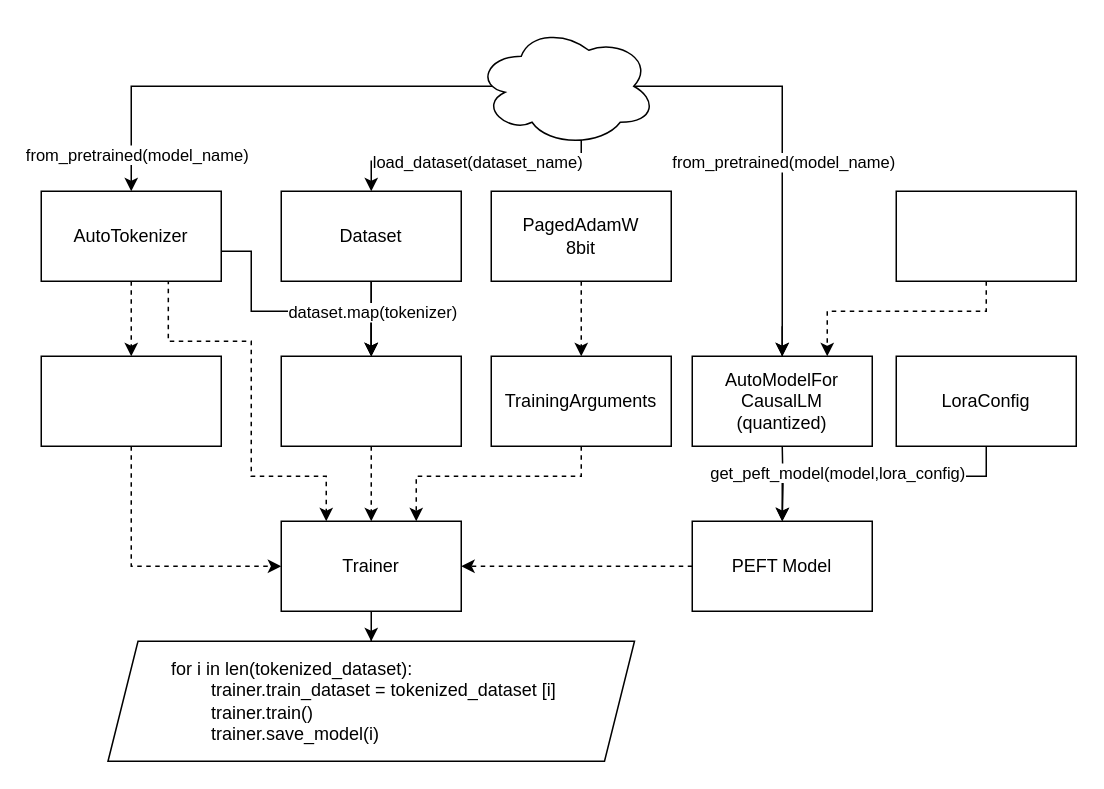
Some shapes in this 1104 by 789 pixel diagram are drawn without their labels. The centre of each missing label's shape, as x and y in pixels:
BitsAndBytesConfig: point (985, 235)
DataCollatorFor LanguageModelling: point (130, 400)
huggingface: point (565, 85)
Tokenized Dataset (split into 100 chunks): point (370, 400)
